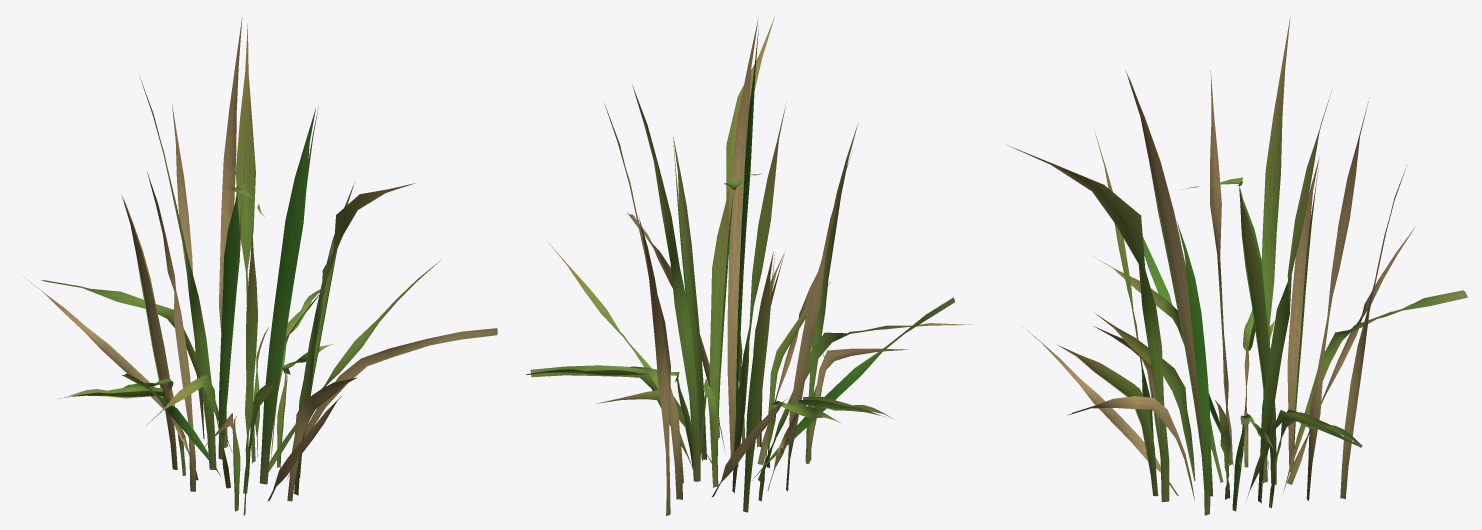
File: Grass_Wispy_Tall.gltf
The picture shows the model from 3 angles, left to right: view 1: azimuth 30°, elevation 25°; view 2: azimuth 150°, elevation 25°; view 3: azimuth 270°, elevation 25°; orthographic projection. The views are drawn at different scales.
Parts seen in each view (by area): view 1: Grass_Wispy_Tall; view 2: Grass_Wispy_Tall; view 3: Grass_Wispy_Tall.
Boxes of the visible parts, x1,y1,x2,y2 form: Grass_Wispy_Tall: [24, 17, 497, 515]; Grass_Wispy_Tall: [526, 16, 971, 515]; Grass_Wispy_Tall: [1007, 15, 1467, 515].
Bounding box in the file's own units: 1.54 × 1.67 × 1.59.
Materials: 1 (1 with a texture image).
